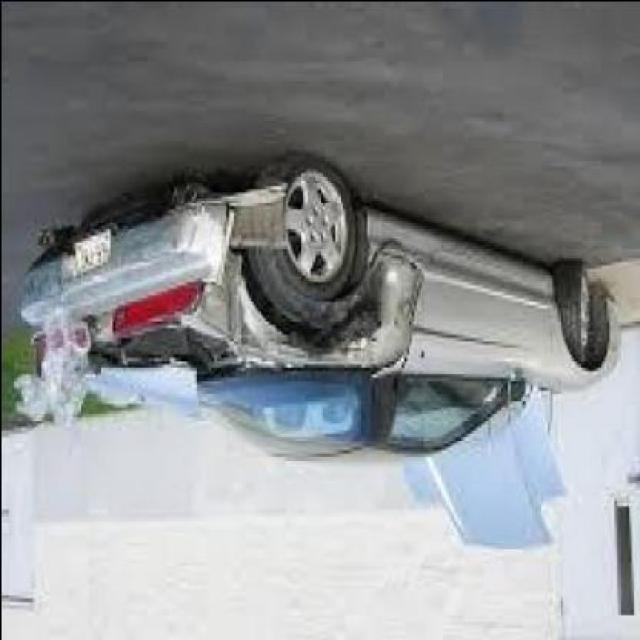damage: (25, 169, 433, 420)
